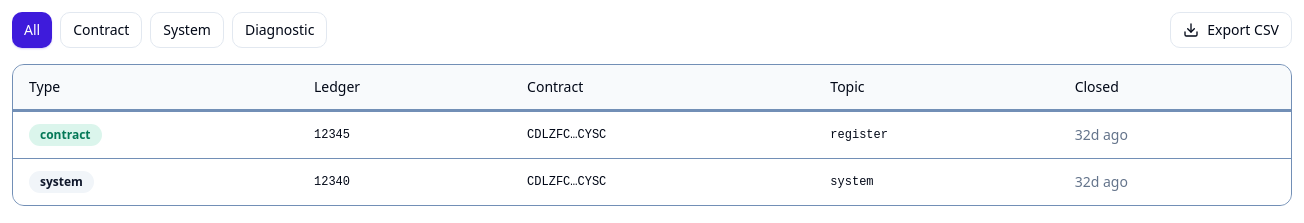
SorobanEventTimeline › distinguishes filter-empty from zero-events empty
Click the button "Diagnostic" at {"x": 280, "y": 30}, box [232, 12, 327, 48]
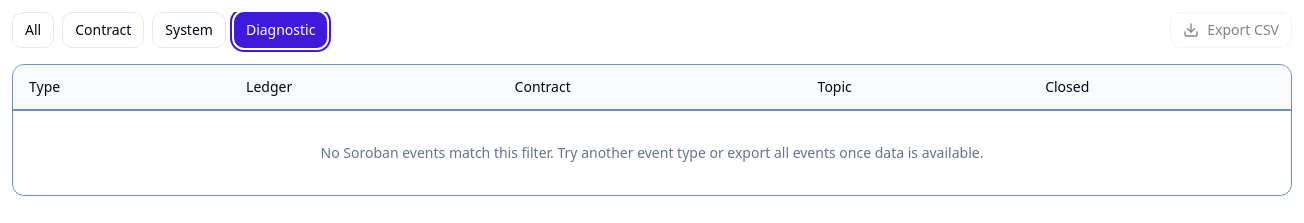
Result: the message with test id "soroban-events-filtered-empty" shows "No Soroban events match this filter" at [321, 143, 983, 162]
